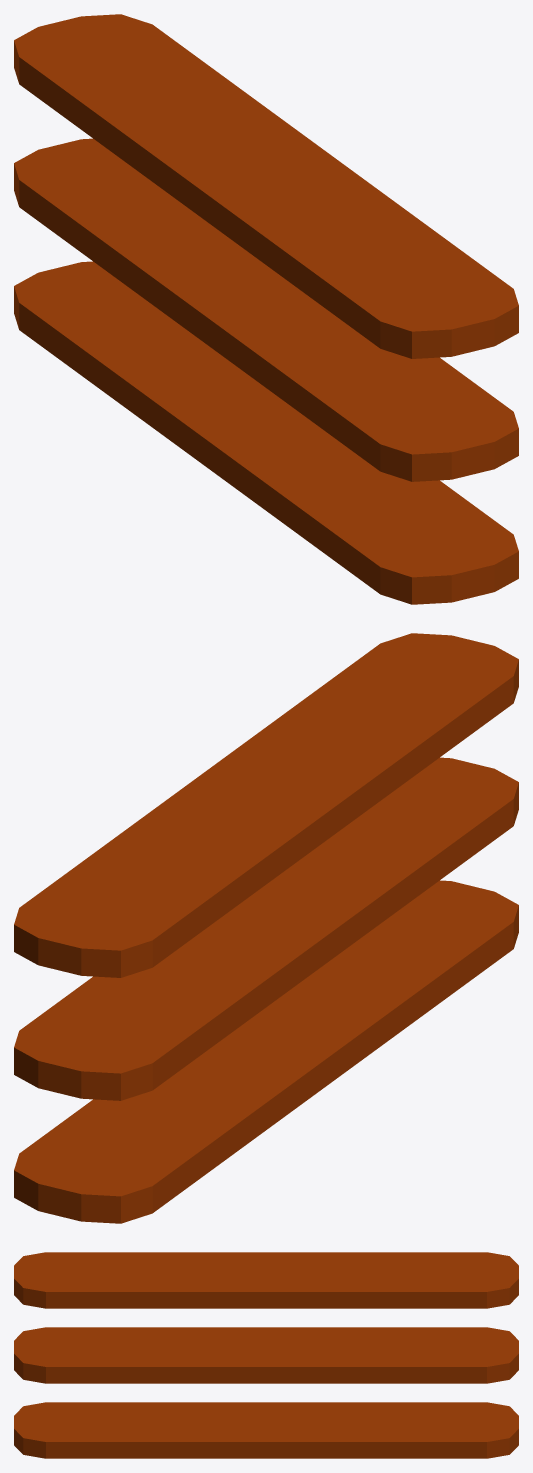
The model's file is shelf.fbx.
3 renders of one model, top to bottom at view 1: azimuth 30°, elevation 25°; view 2: azimuth 150°, elevation 25°; view 3: azimuth 270°, elevation 25°, orthographic. The views are drawn at different scales.
Parts seen in each view (by area): view 1: étagère; view 2: étagère; view 3: étagère.
Part boxes in pixels (bbox=[...]): étagère: bbox=[14, 14, 518, 604]; étagère: bbox=[14, 633, 518, 1223]; étagère: bbox=[14, 1252, 518, 1458].
Bounding box in the file's own units: 116 × 226 × 620.
